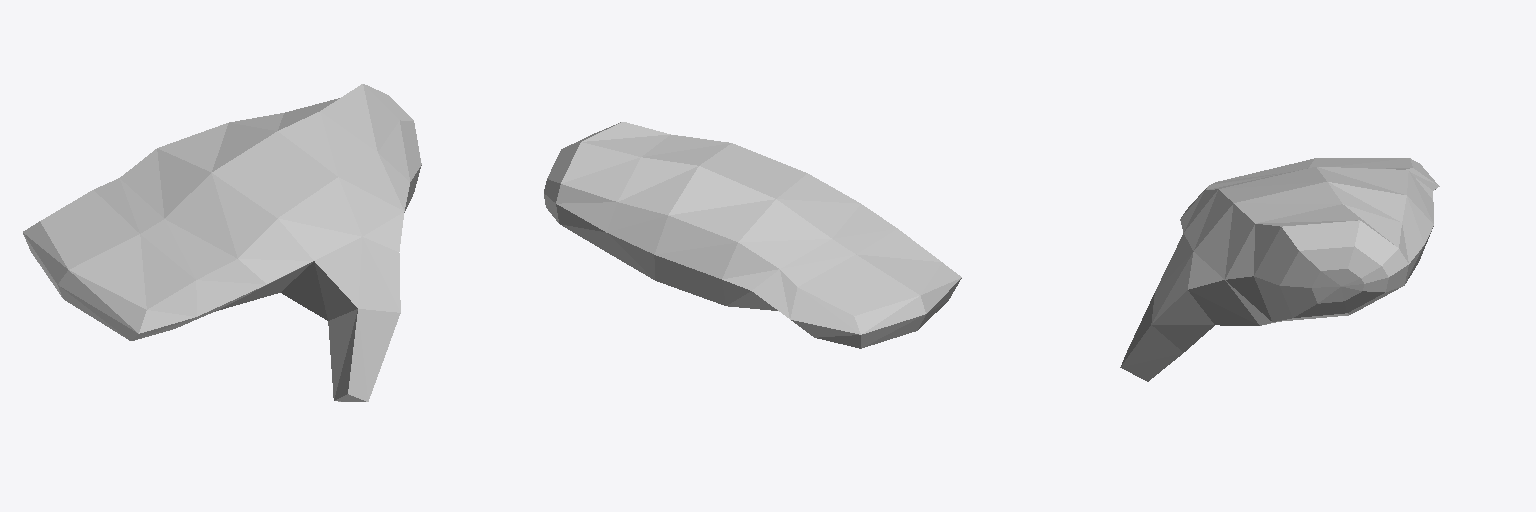
File: hand right.obj
The picture shows the model from 3 angles: view 1: azimuth 30°, elevation 25°; view 2: azimuth 150°, elevation 25°; view 3: azimuth 270°, elevation 25°; orthographic projection.
Parts seen in each view (by area): view 1: model459.011; view 2: model459.011; view 3: model459.011.
Part boxes in pixels (x1,y1,x2,y2): model459.011: (23, 84, 421, 401); model459.011: (544, 122, 961, 348); model459.011: (1120, 158, 1439, 381).
Size of the model in its own units: 2.27 by 1.31 by 1.76.